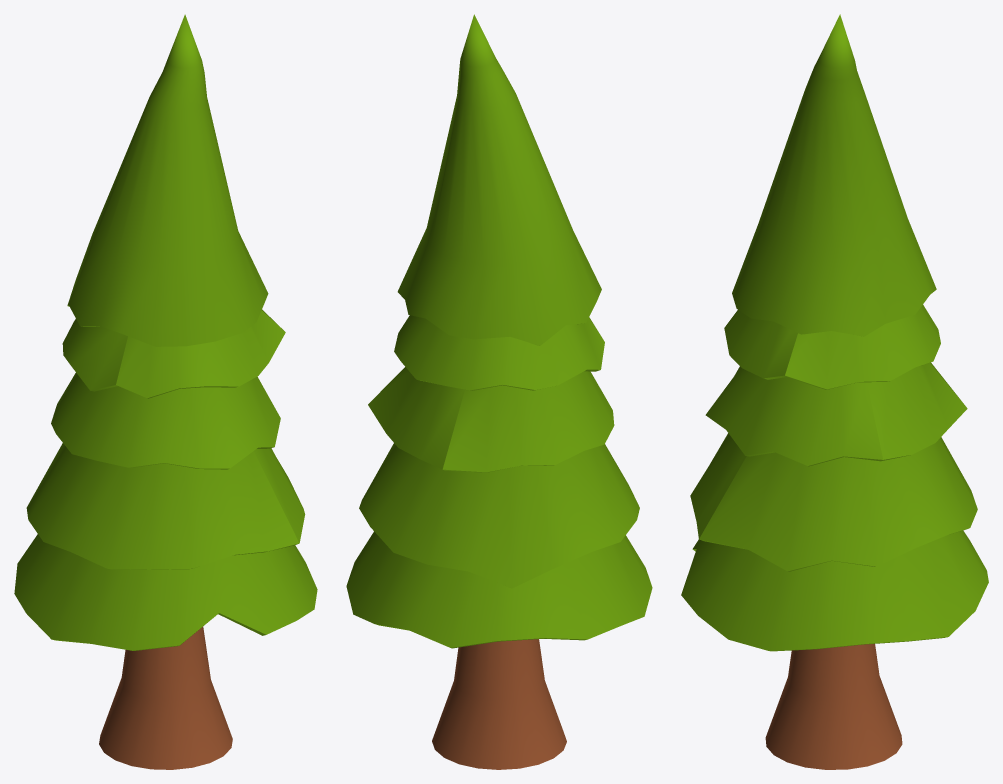
The model's file is tree_pine_large.fbx.
3 views of the same model, side by side, from view 1: azimuth 30°, elevation 25°; view 2: azimuth 150°, elevation 25°; view 3: azimuth 270°, elevation 25° (orthographic). The views are drawn at different scales.
Parts seen in each view (by area): view 1: tree_pine_large; view 2: tree_pine_large; view 3: tree_pine_large.
Part boxes in pixels (bbox=[...]): tree_pine_large: bbox=[14, 14, 317, 769]; tree_pine_large: bbox=[346, 14, 652, 769]; tree_pine_large: bbox=[681, 14, 988, 769].
Size of the model in its own units: 4.49 by 11.79 by 4.46.
